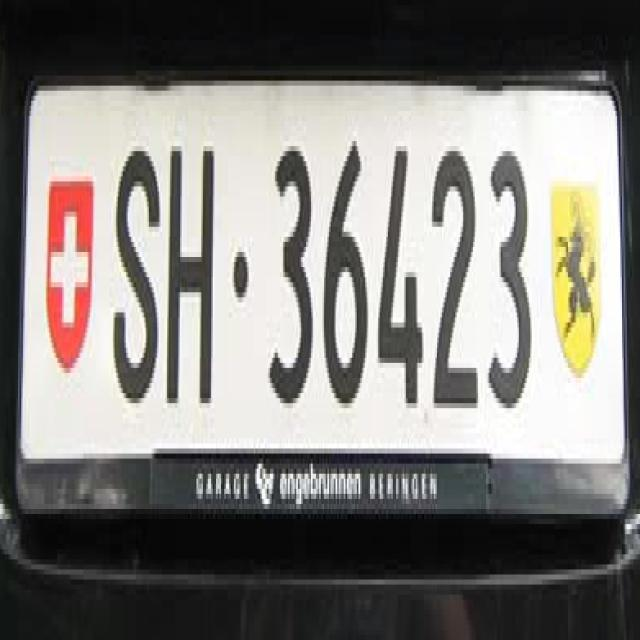Autre: (27, 80, 625, 512)
